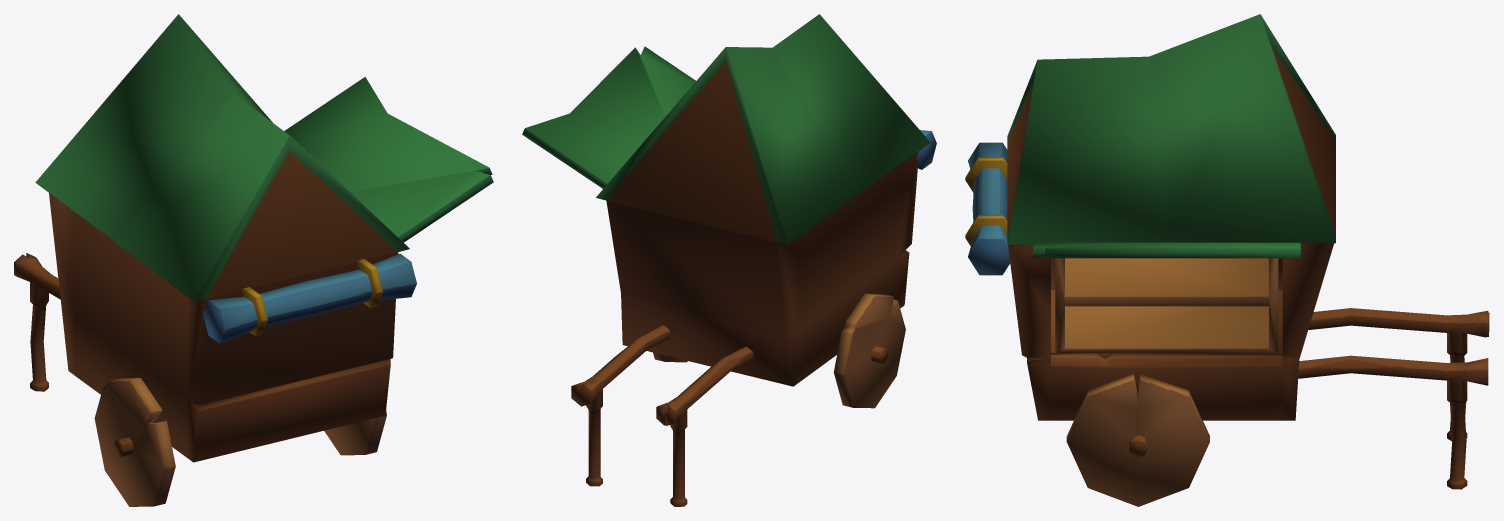
The model's file is CartWithPointyRoof.glb.
The picture shows the model from 3 angles, left to right: view 1: azimuth 30°, elevation 25°; view 2: azimuth 150°, elevation 25°; view 3: azimuth 270°, elevation 25°; orthographic projection. The views are drawn at different scales.
Parts seen in each view (by area): view 1: cart01; view 2: cart01; view 3: cart01.
Boxes of the visible parts, x1,y1,x2,y2 form: cart01: (14,14,493,506); cart01: (522,14,936,506); cart01: (965,14,1489,506).
Bounding box in the file's own units: 0.0342 × 0.0431 × 0.0459.
Materials: 1 (1 with a texture image).
